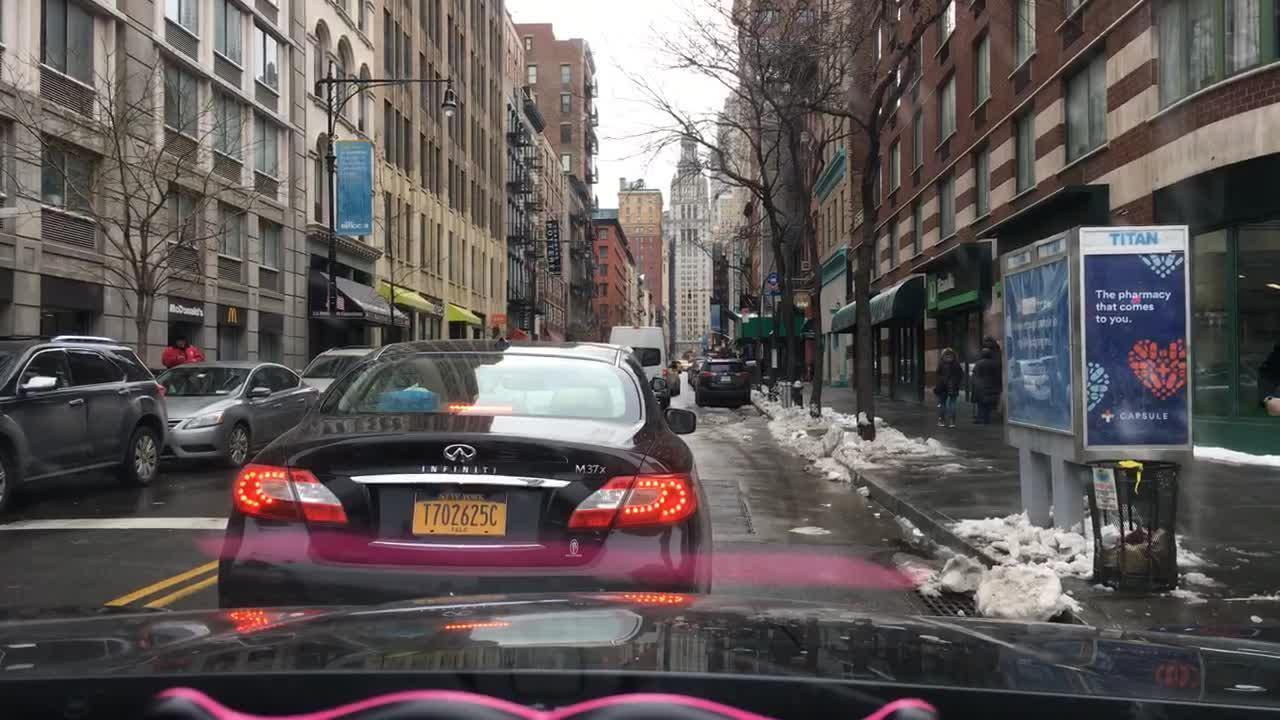Infiniti: (444, 440, 483, 461)
